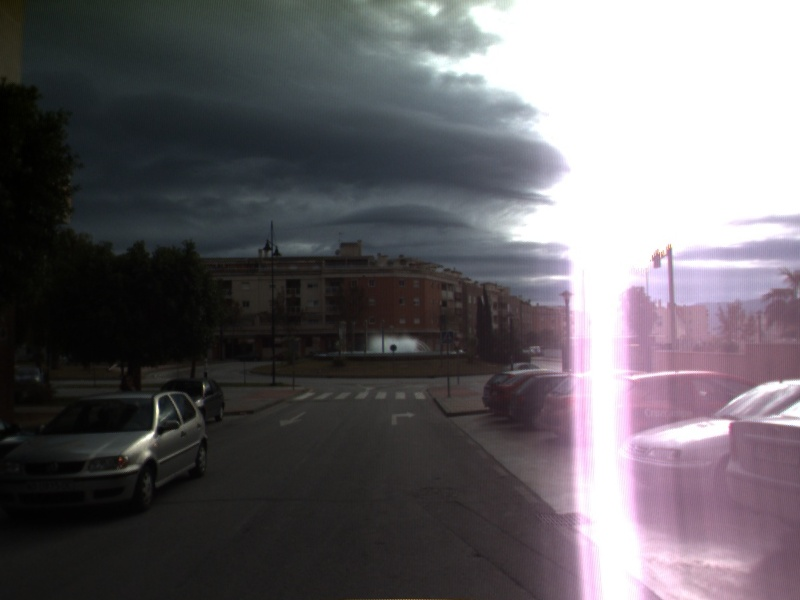RIGHT: (389, 409, 418, 427)
